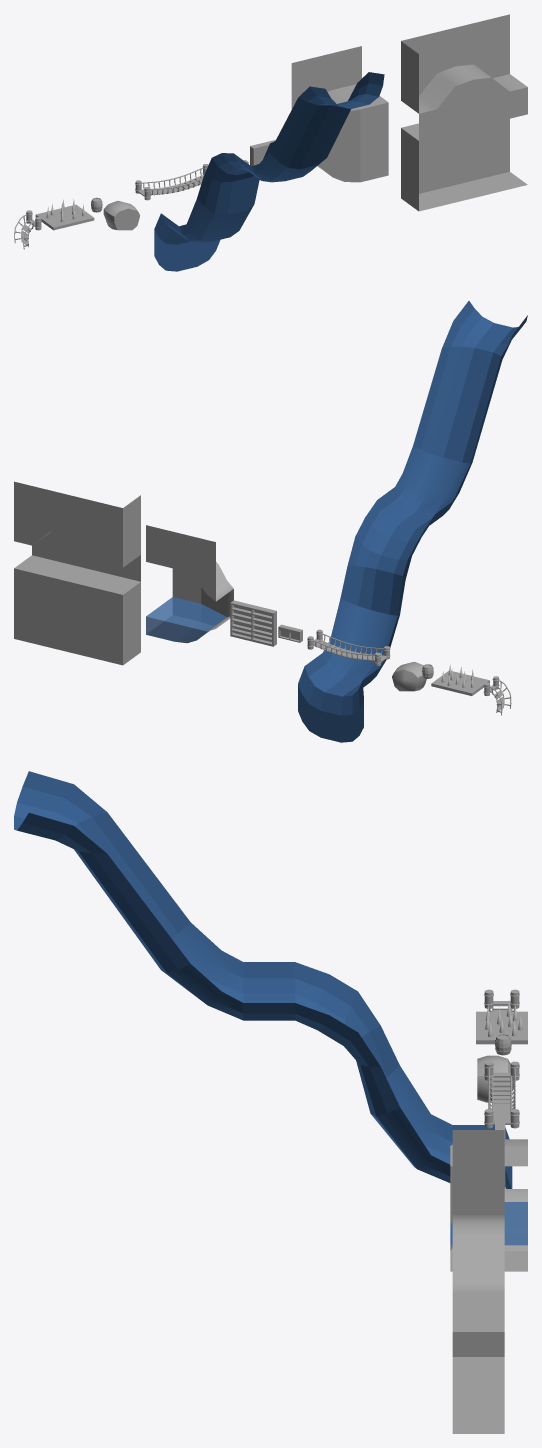
The model's file is Asset Pack.fbx.
The picture shows the model from 3 angles, top to bottom: view 1: azimuth 30°, elevation 25°; view 2: azimuth 150°, elevation 25°; view 3: azimuth 270°, elevation 25°; orthographic projection. The views are drawn at different scales.
Parts seen in each view (by area): view 1: Bloco_Final, Agua, Bloco_Inicial, Espeto, Pedra, polySurface37, Estante; view 2: Agua, Bloco_Final, Bloco_Inicial, Estante, Espeto, Pedra, polySurface37; view 3: Agua, Bloco_Final, Bloco_Inicial, Espeto, Pedra.
Part boxes in pixels (x1,y1,x2,y2): Bloco_Final: [401, 14, 527, 211]; Agua: [154, 72, 384, 271]; Bloco_Inicial: [291, 46, 388, 182]; Espeto: [35, 199, 94, 230]; Pedra: [103, 200, 139, 230]; polySurface37: [135, 167, 206, 197]; Estante: [250, 140, 275, 180]; Agua: [298, 301, 527, 742]; Bloco_Final: [14, 481, 140, 665]; Bloco_Inicial: [146, 525, 233, 643]; Estante: [230, 600, 276, 646]; Espeto: [431, 664, 489, 695]; Pedra: [392, 661, 426, 691]; polySurface37: [307, 632, 390, 663]; Agua: [14, 771, 512, 1188]; Bloco_Final: [452, 1130, 504, 1433]; Bloco_Inicial: [450, 1139, 527, 1271]; Espeto: [476, 1000, 527, 1044]; Pedra: [477, 1055, 513, 1102].
Bounding box in the file's own units: 949 × 572 × 595.
